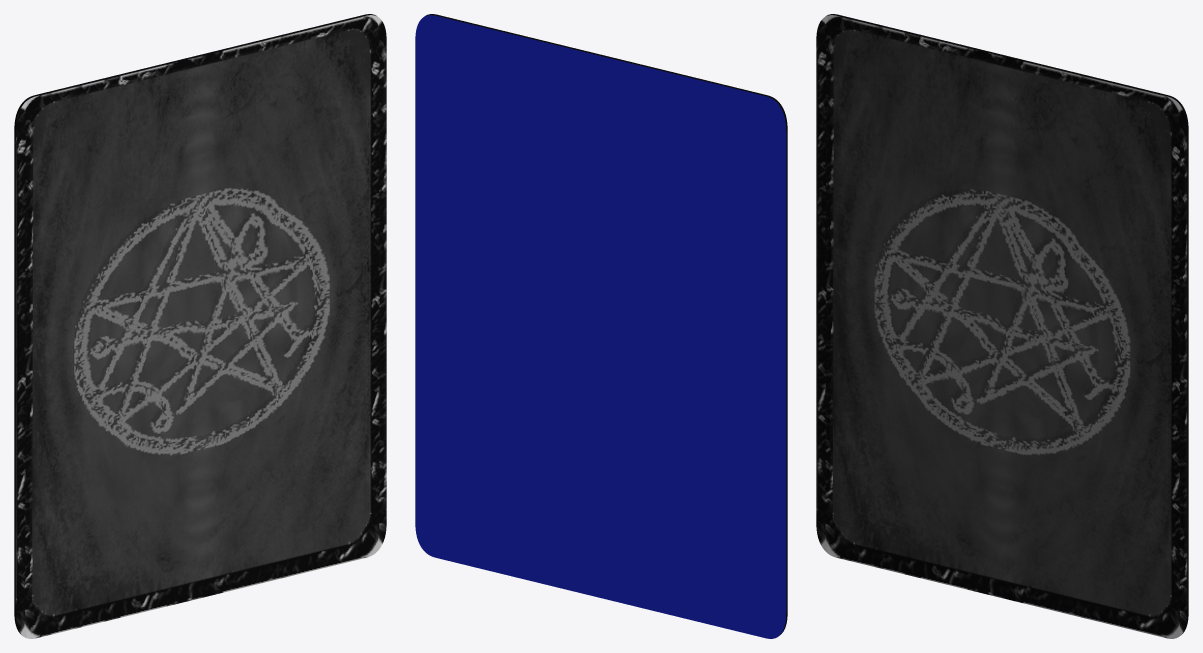
File: single_card_final_prefab2.fbx
The picture shows the model from 3 angles, left to right: view 1: azimuth 30°, elevation 25°; view 2: azimuth 150°, elevation 25°; view 3: azimuth 330°, elevation 25°; orthographic projection.
Visible parts, largest first — view 1: Plane.001; view 2: Plane.001; view 3: Plane.001.
Part boxes in pixels (left/top/right/bottom): Plane.001: left=14, top=14, right=386, bottom=638; Plane.001: left=415, top=14, right=787, bottom=638; Plane.001: left=816, top=14, right=1188, bottom=638.
Size of the model in its own units: 63 by 88 by 0.4335.
